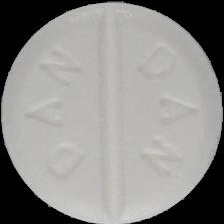68788-1473: (0, 0, 224, 224)
